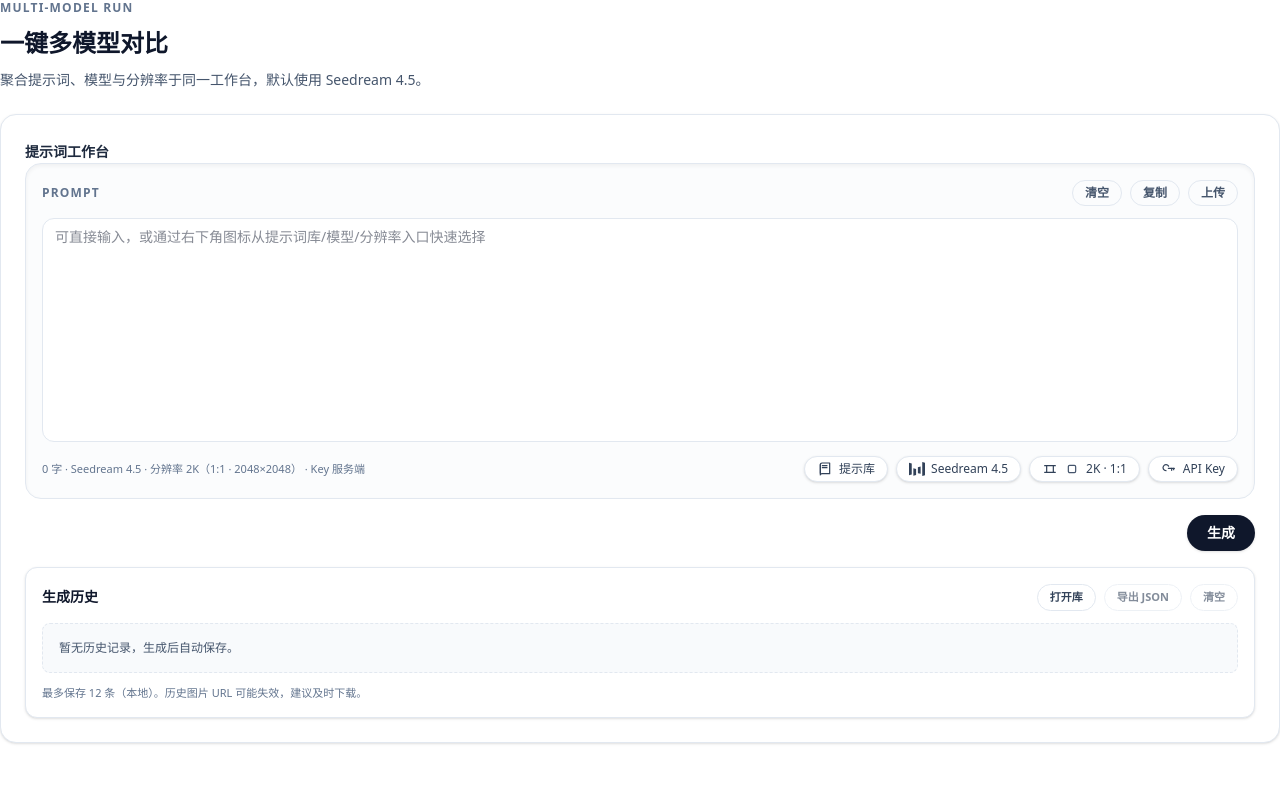
GenerateClient (MSW) › rejects custom sizes with a side greater than 4096
The image size is (1280, 800).
Click the button "2K · 1:1" at (1084, 469), box x1=1029 y1=456 x2=1140 y2=482
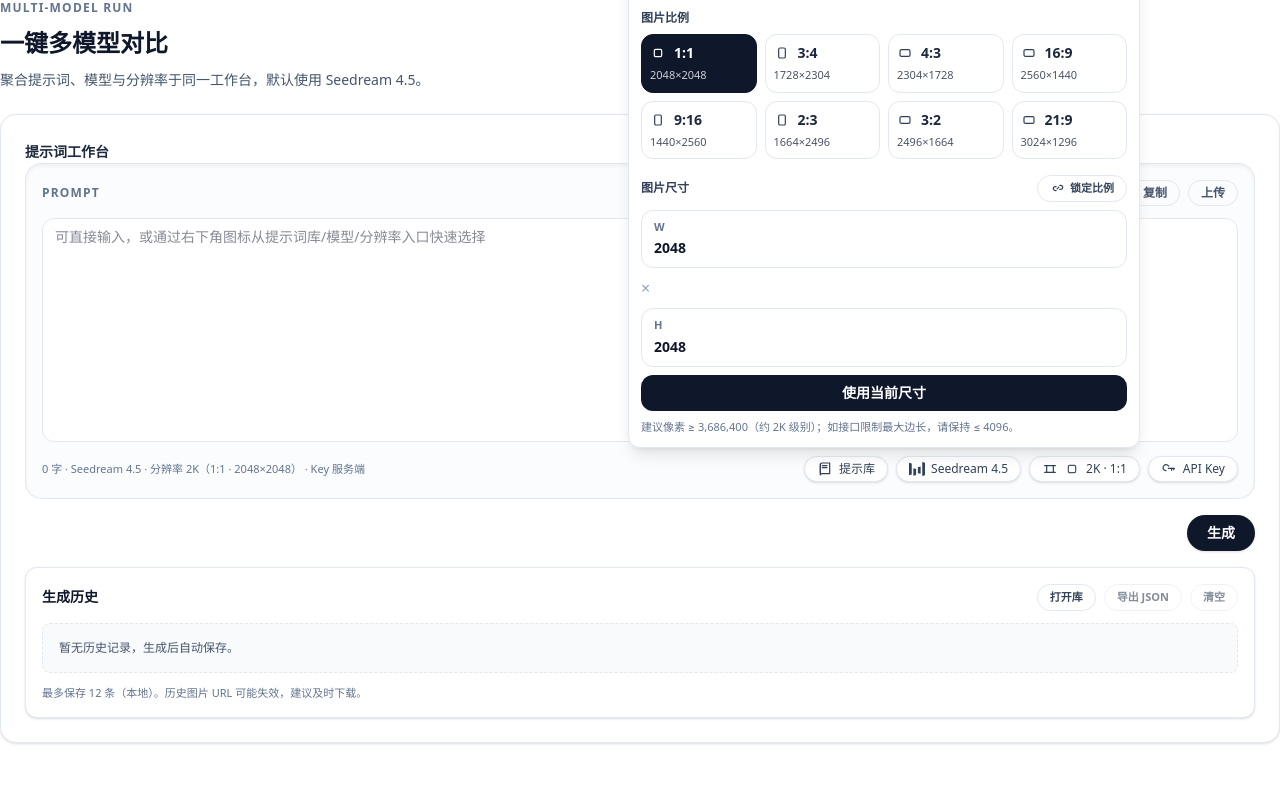
Replace the text in the 1st field with placeholder "宽度" with "5000" at (884, 248), box x1=654 y1=238 x2=1114 y2=258
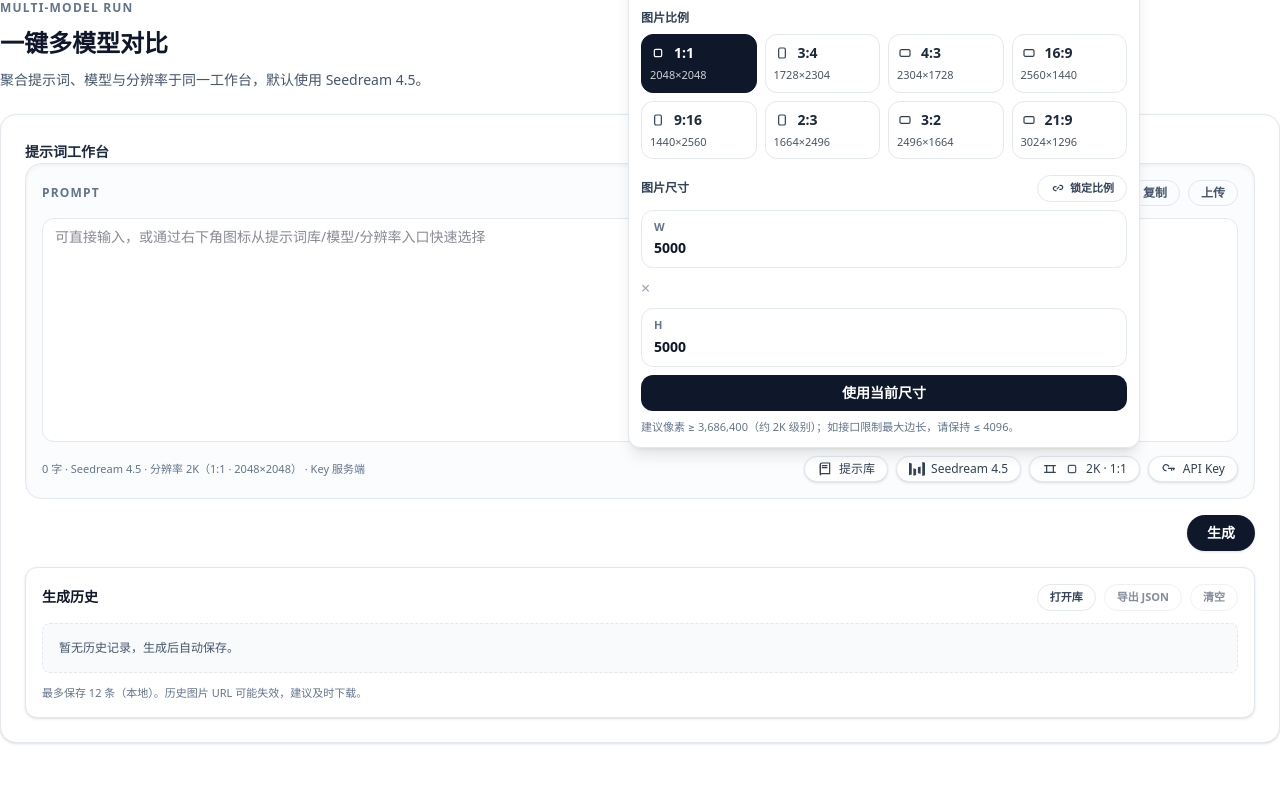
Click the button "使用当前尺寸" at (884, 392), box x1=641 y1=374 x2=1127 y2=410
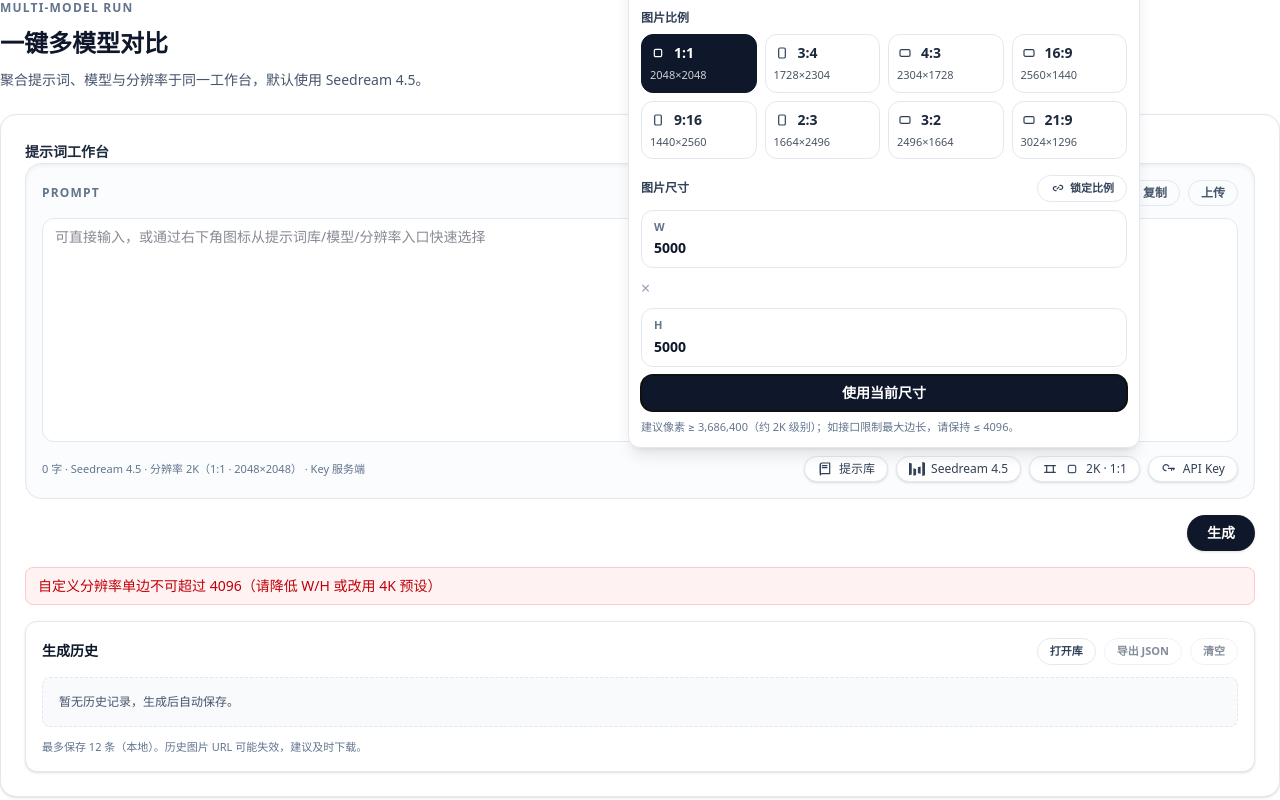
Check: the text "自定义分辨率单边不可超过 4096（请降低 W/H 或改用 4K 预设）" is shown, box x1=25 y1=567 x2=1255 y2=605
